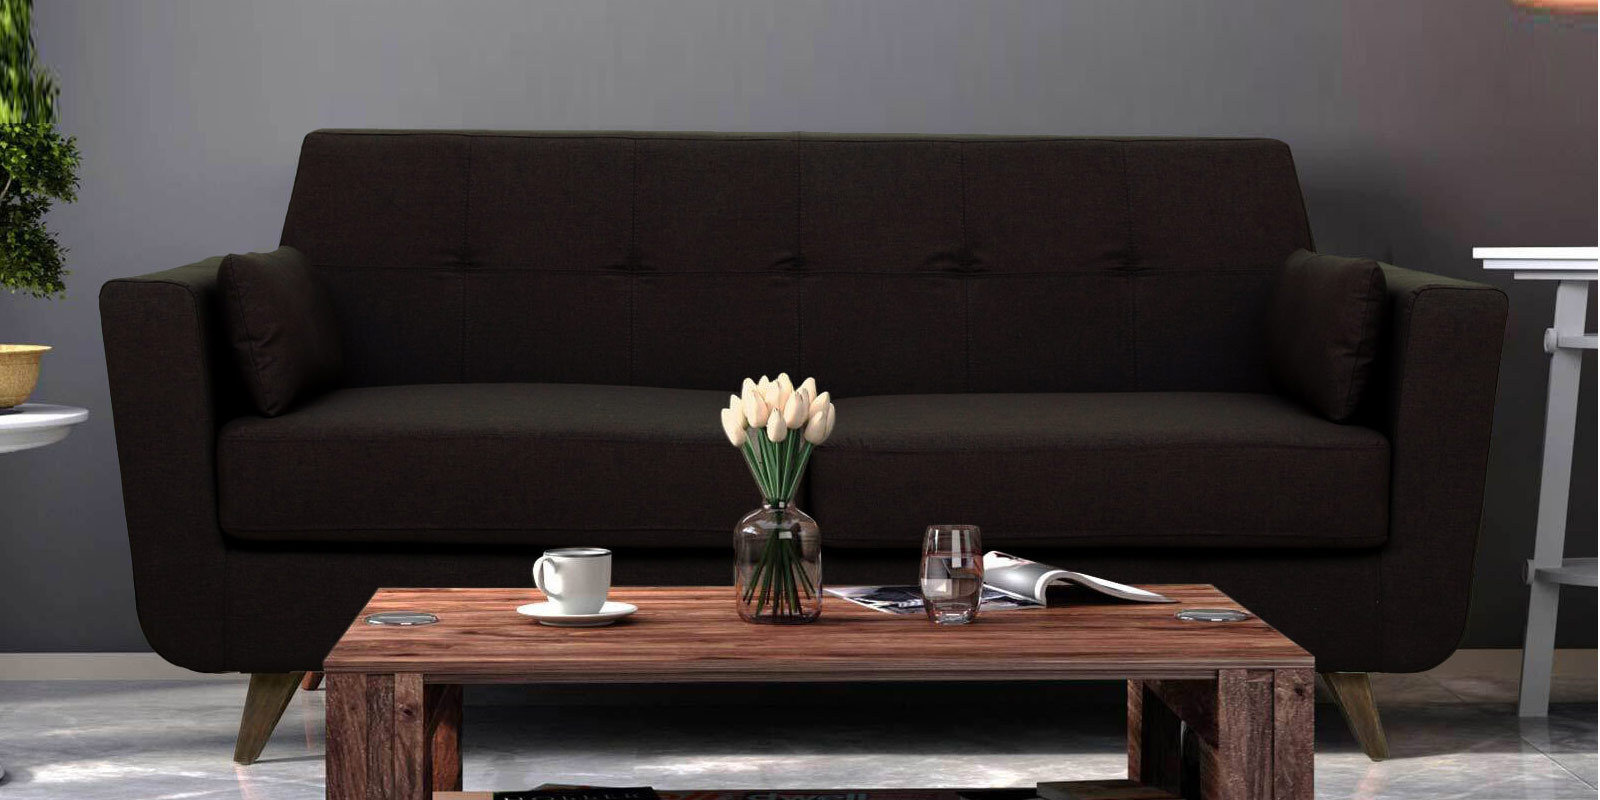Brass Three Seater Sofa in Dark Grey Colour by Furniture Mind: (89, 109, 1499, 545)
